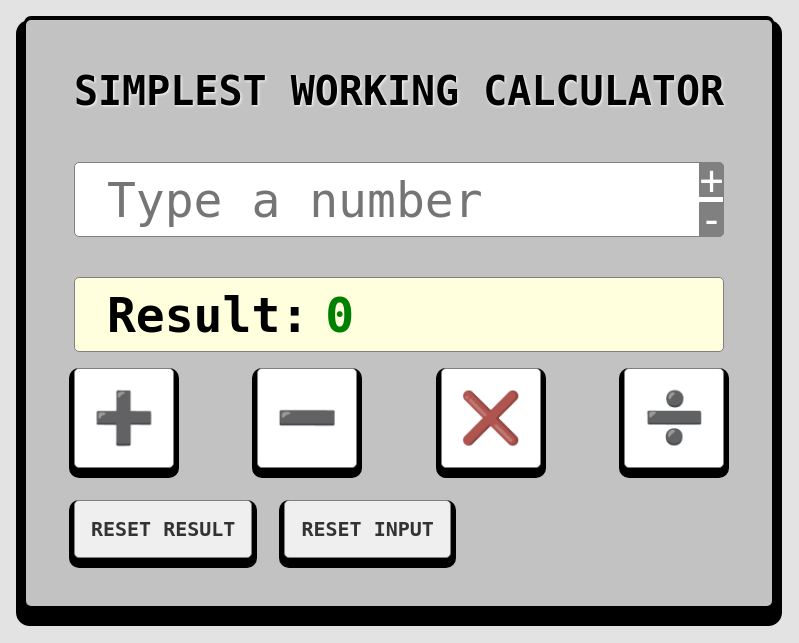
it: Calc app Math operations › Divide to 0
Type "100" into the number field titled "input" at [399, 200], box [74,162,724,237]
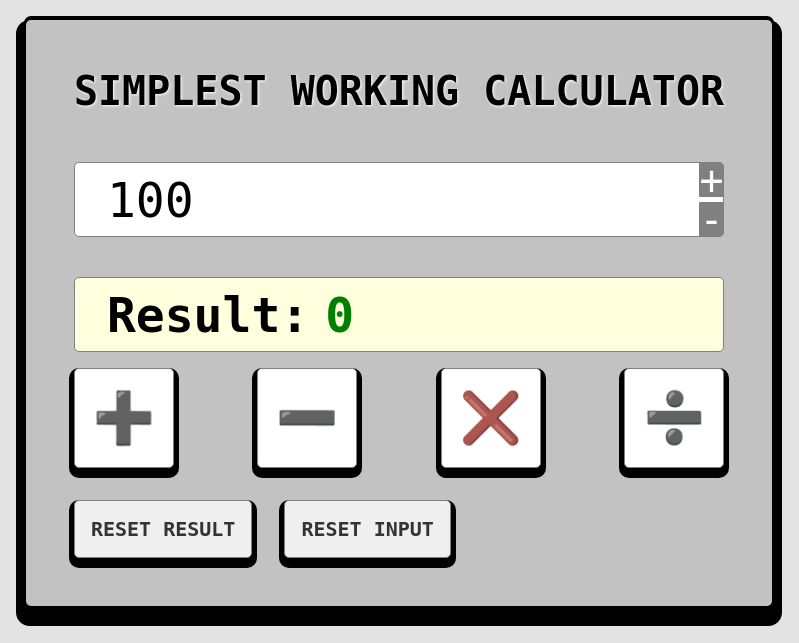
Click the button titled "add" at [124, 418], box [74,368,174,468]
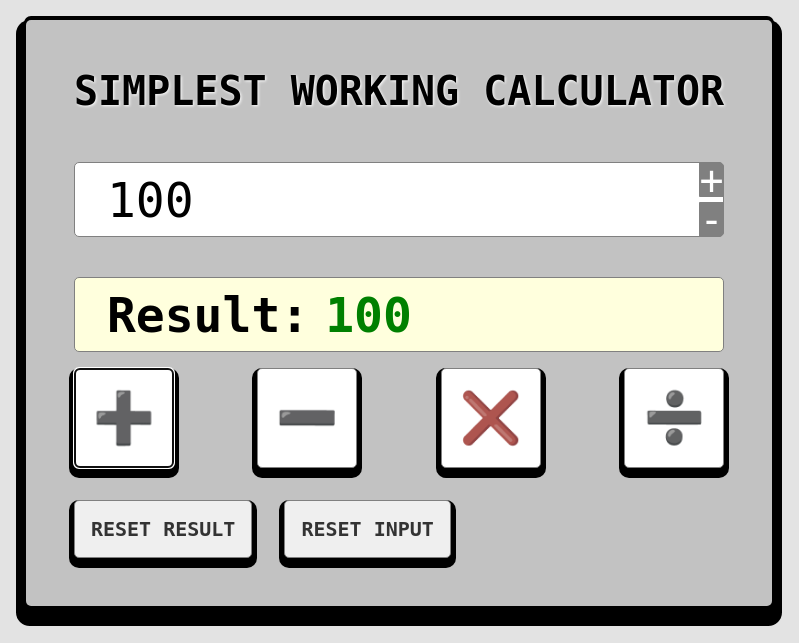
Replace the text in the number field titled "input" with "0" at [399, 200], box [74,162,724,237]
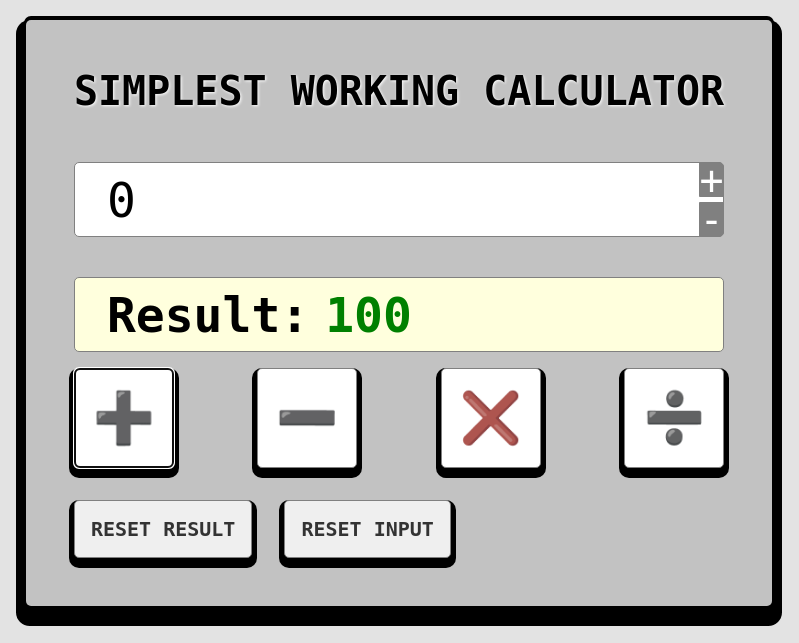
Click the button titled "divide" at [674, 418], box [624,368,724,468]
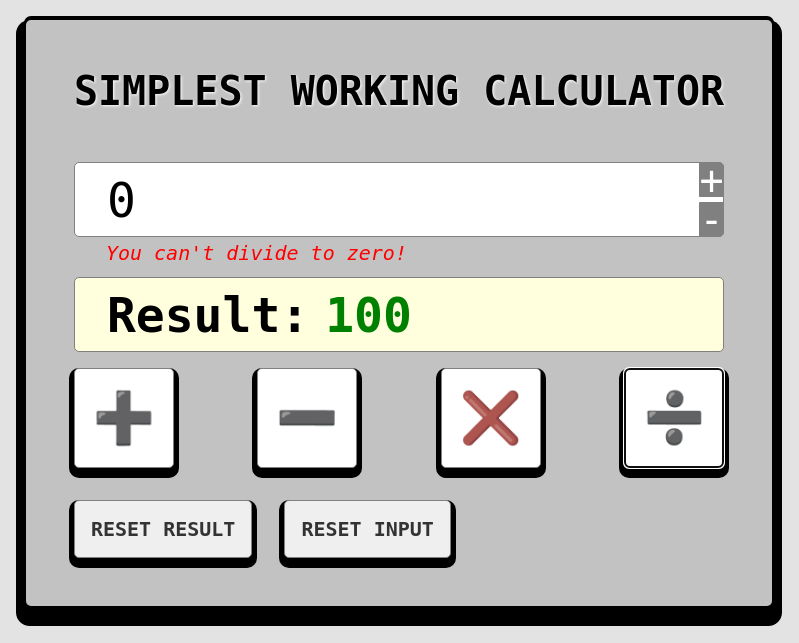
Expected: the text "You can't divide to zero!" is shown, [106,241,407,265]
